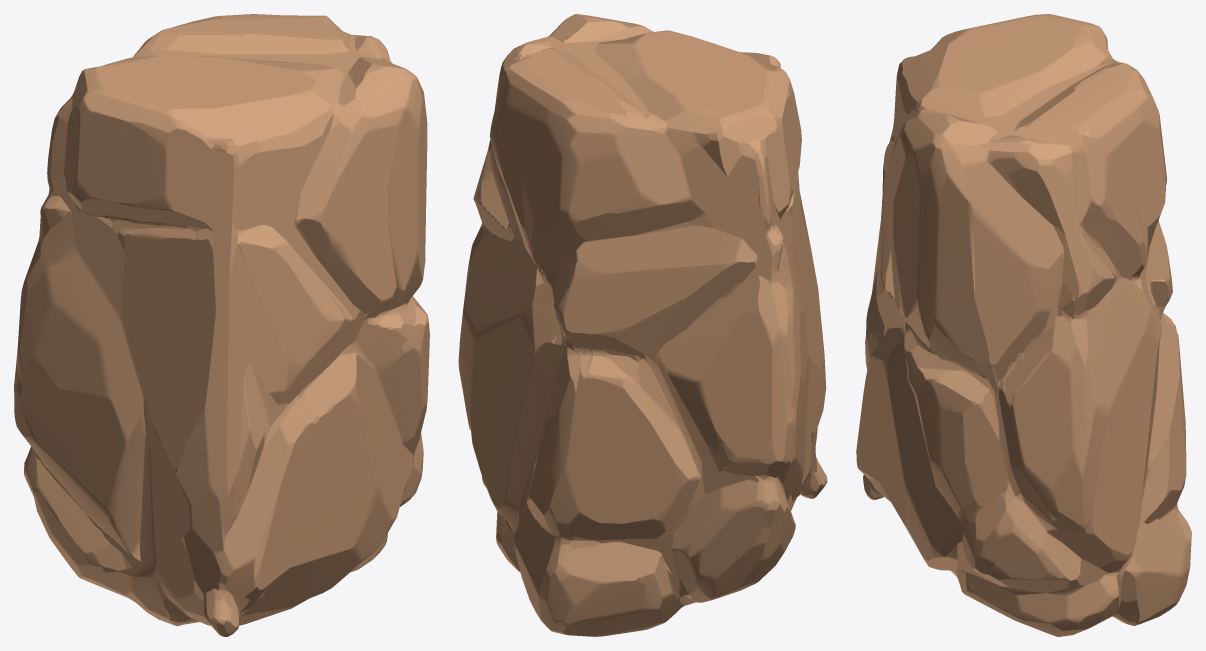
3 views of the same model, side by side, from view 1: azimuth 30°, elevation 25°; view 2: azimuth 150°, elevation 25°; view 3: azimuth 270°, elevation 25° (orthographic). The views are drawn at different scales.
Parts seen in each view (by area): view 1: Mesh_9_LOD0; view 2: Mesh_9_LOD0; view 3: Mesh_9_LOD0.
Part boxes in pixels (x1,y1,x2,y2): Mesh_9_LOD0: [14, 14, 429, 636]; Mesh_9_LOD0: [458, 14, 827, 636]; Mesh_9_LOD0: [856, 14, 1191, 636].
Size of what is drawn, in the model's own units: 1771 by 2629 by 1497.
